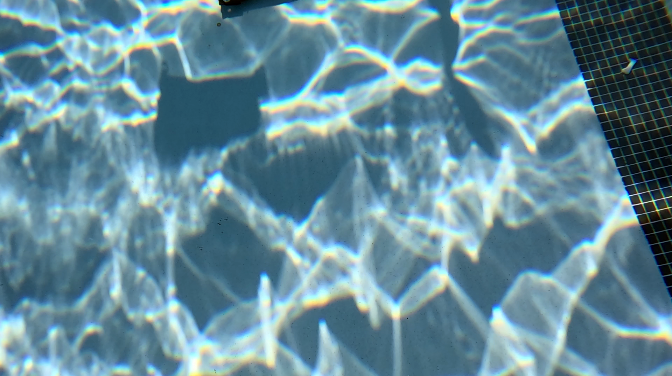sandbag: (219, 0, 251, 4)
